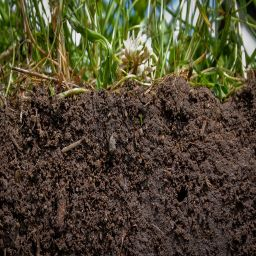dirt: (3, 88, 253, 251)
grass: (0, 0, 254, 84)
